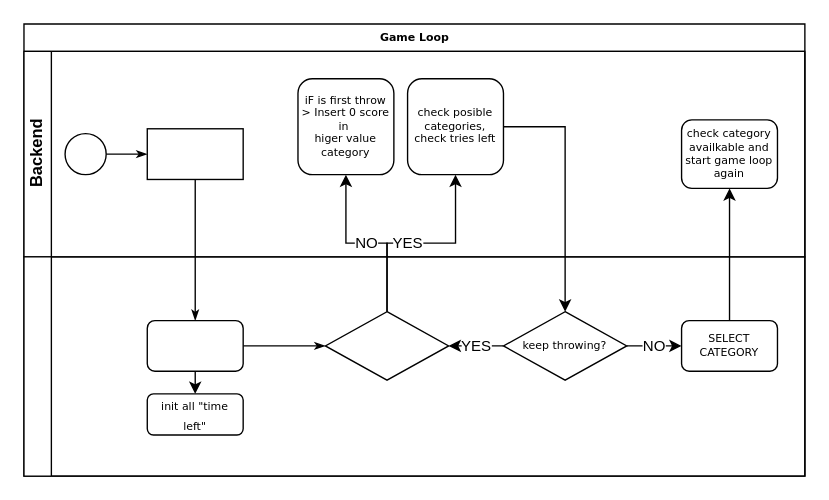
Some shapes in this 829 by 500 pixel diagram are drawn without their labels. The box of each missing label's shape, as (x1, y1, x2, y2) in pixels:
Alert with who starts game: (146, 319, 243, 371)
Frontend: (23, 256, 805, 476)
player X throw dices: (324, 310, 449, 380)
Randomize who starts the game: (146, 127, 243, 179)
